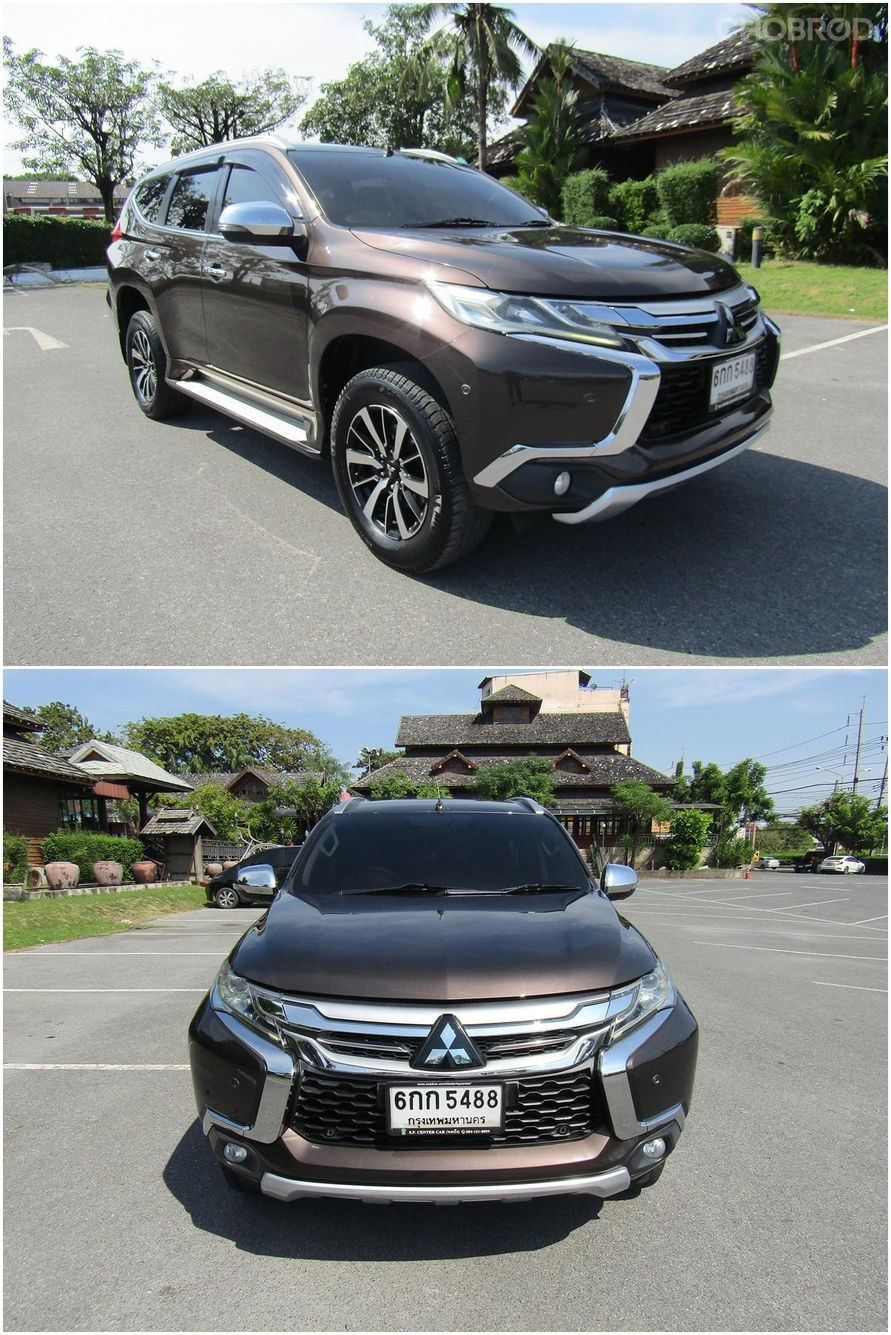license-plate: (387, 1080, 509, 1142), (702, 343, 767, 416)
